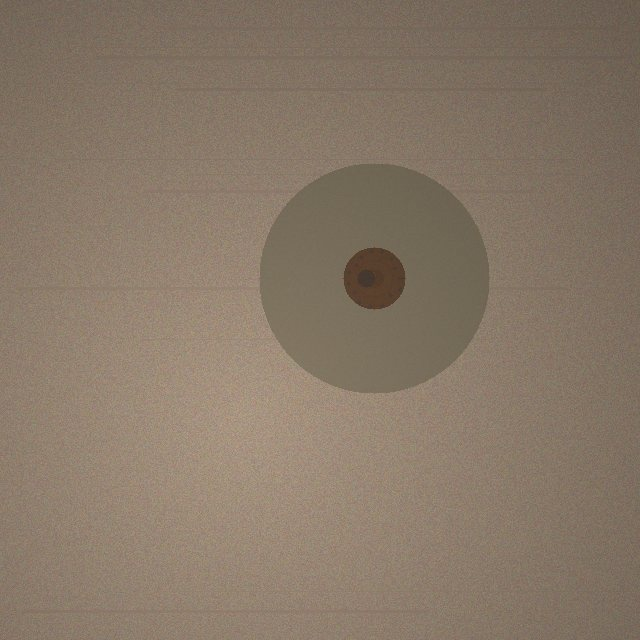cold_weld: (259, 163, 489, 393)
